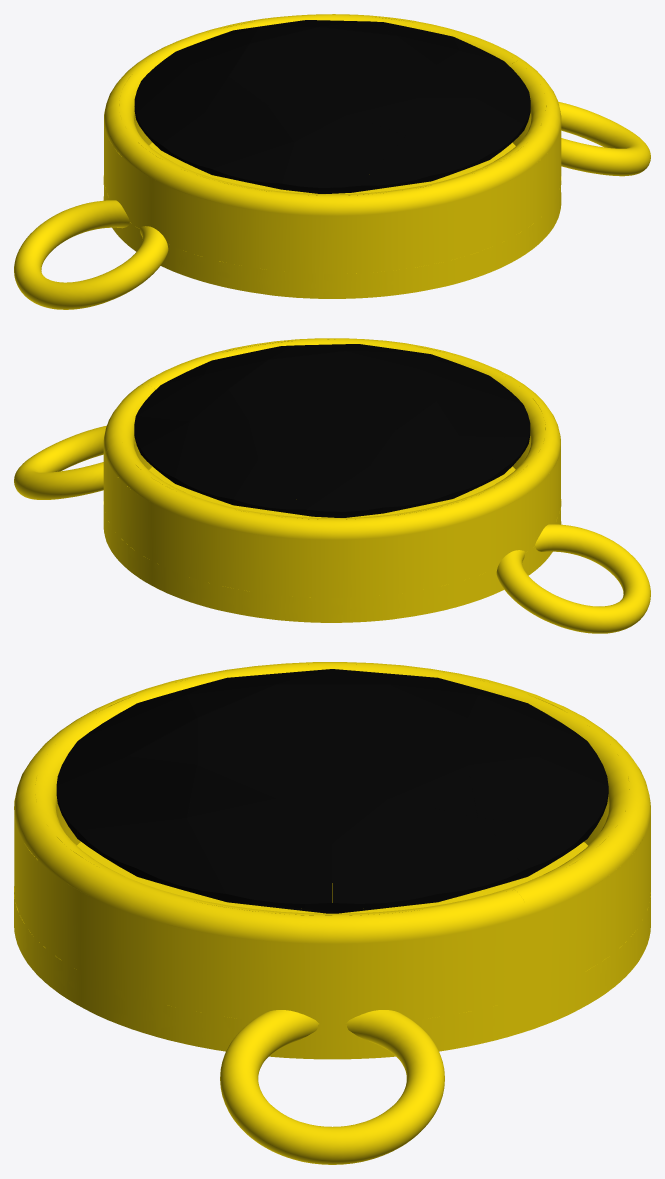
The model's file is bracelet-circle.glb.
3 views of the same model, one above another, from view 1: azimuth 30°, elevation 25°; view 2: azimuth 150°, elevation 25°; view 3: azimuth 270°, elevation 25° (orthographic). The views are drawn at different scales.
Size of the model in its own units: 0.0232 by 0.00576 by 0.015.
